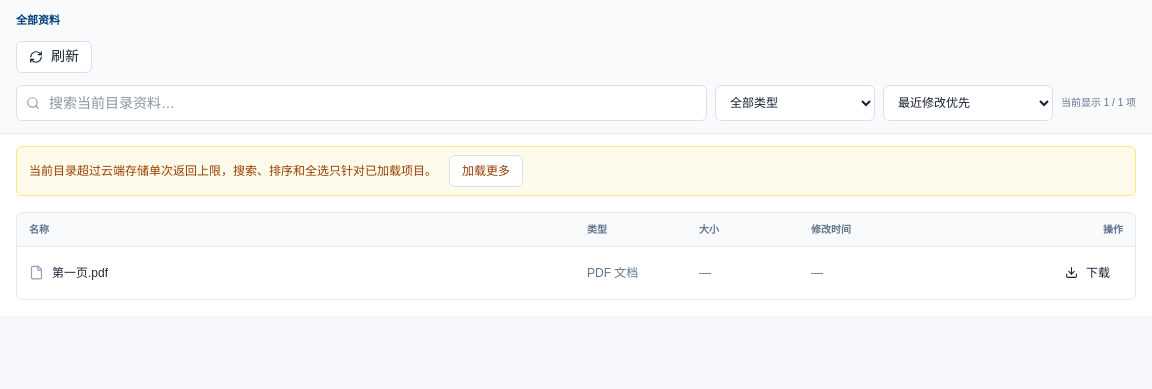
Test: research library directory request ordering › lets readers load later directory pages and find files without losing their search focus
Type "第二" into the field labelled "搜索当前目录资料" at [362, 102], box [16, 84, 707, 120]
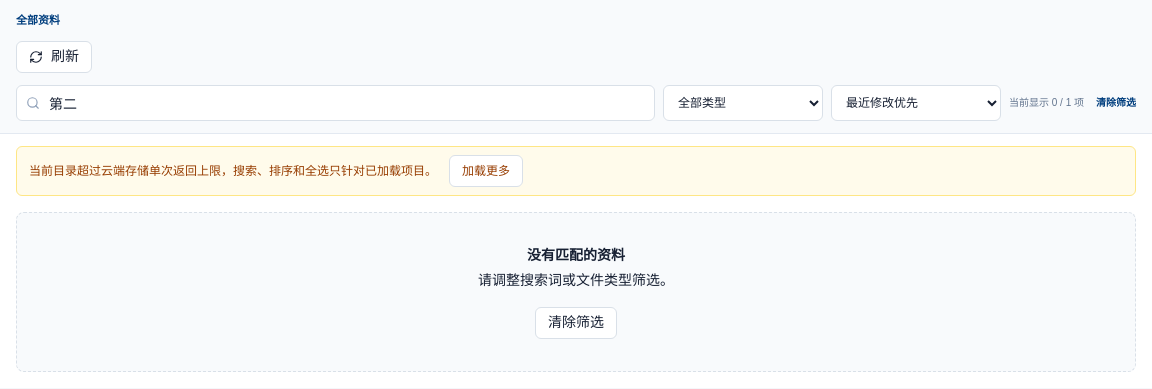
expect the button "第一页.pdf" is gone: met
Click the button "加载更多" at [486, 170], box [449, 154, 523, 186]
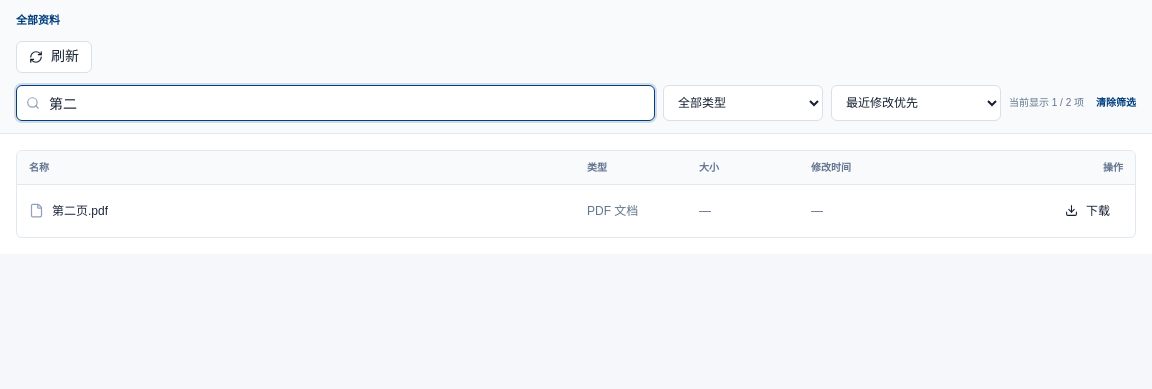
expect the text "第二页.pdf" is shown: met, box [52, 203, 108, 219]
expect the button "加载更多" is gone: met
